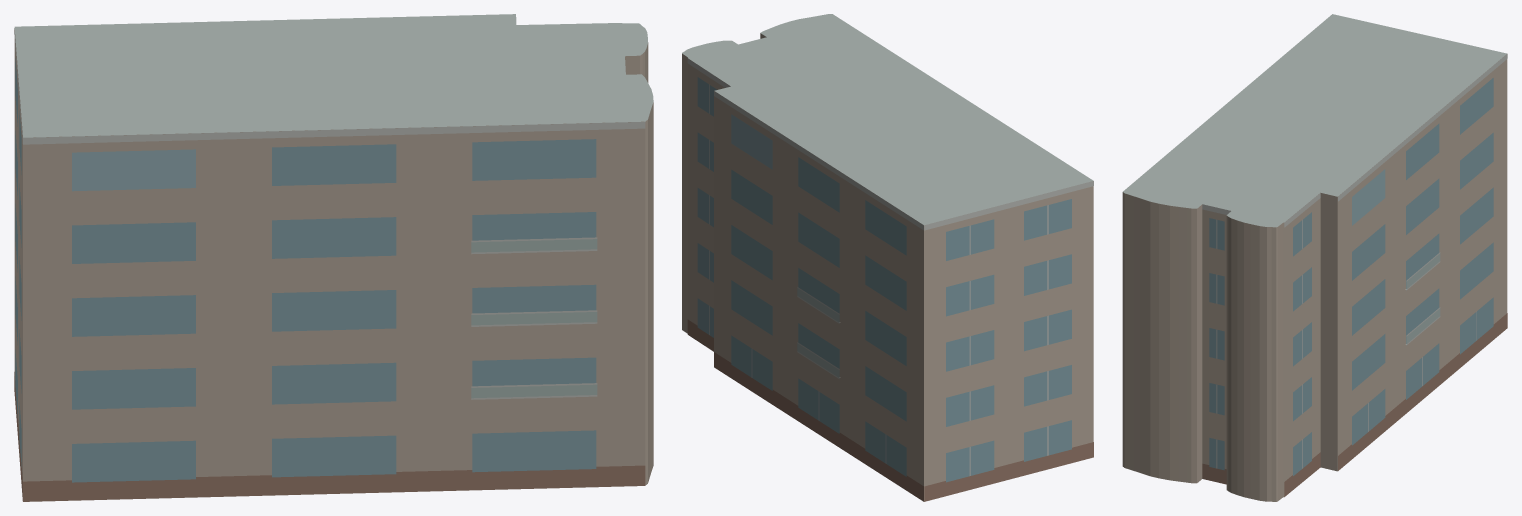
Rendered from survey-upis-32885214.glb.
3 views of the same model, side by side, from view 1: azimuth 30°, elevation 25°; view 2: azimuth 150°, elevation 25°; view 3: azimuth 270°, elevation 25° (orthographic). The views are drawn at different scales.
Parts seen in each view (by area): view 1: survey-upis-32885214.tmp; view 2: survey-upis-32885214.tmp; view 3: survey-upis-32885214.tmp.
Part boxes in pixels (left/top/right/bottom): survey-upis-32885214.tmp: left=14, top=14, right=653, bottom=501; survey-upis-32885214.tmp: left=682, top=14, right=1093, bottom=501; survey-upis-32885214.tmp: left=1122, top=14, right=1507, bottom=501.
Bounding box in the file's own units: 21.32 × 12.8 × 16.26.
